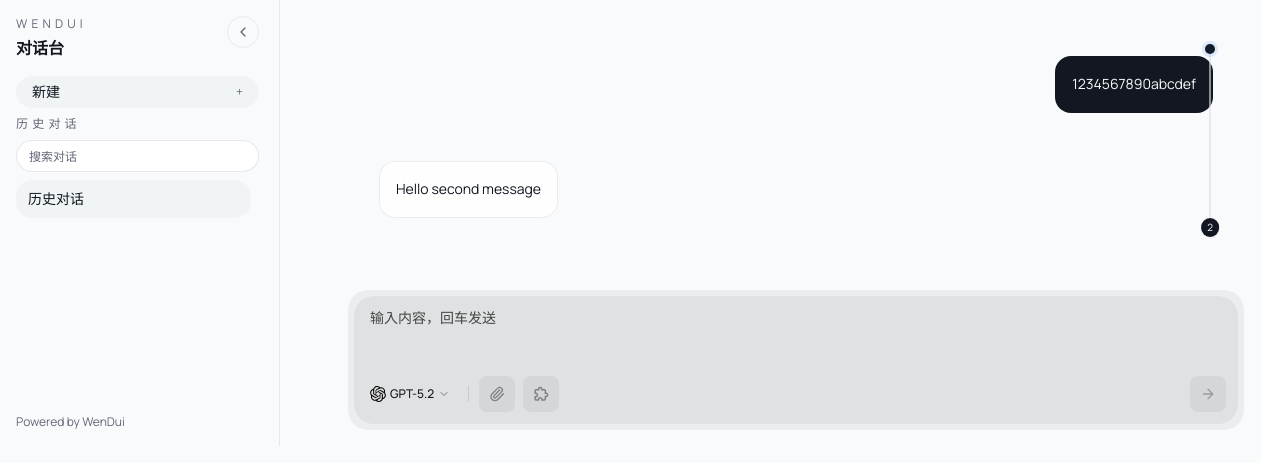
Scenario: shows message navigator previews on hover
The width and height of the screenshot is (1261, 463).
expect the text "1234567890abcdef" is shown: met, box [1072, 73, 1196, 96]
Hover over the navigation bar with test id "message-navigator" at {"x": 1210, "y": 140}, box [1201, 44, 1219, 237]
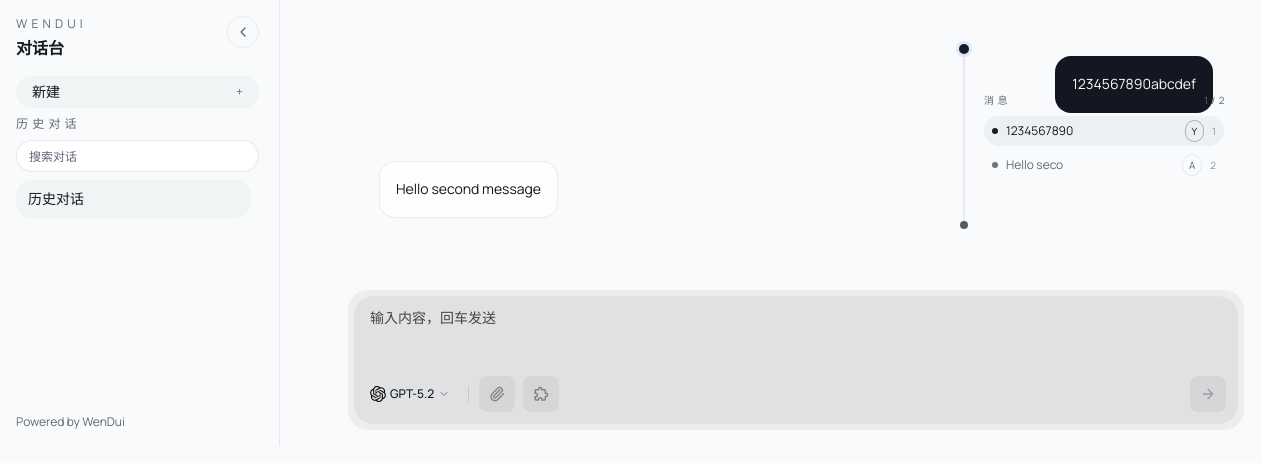
expect the text "1234567890" is shown: met, box [1006, 122, 1073, 139]
expect the text "Y" is shown: met, box [1184, 120, 1204, 142]
expect the text "A" is shown: met, box [1182, 154, 1202, 176]
